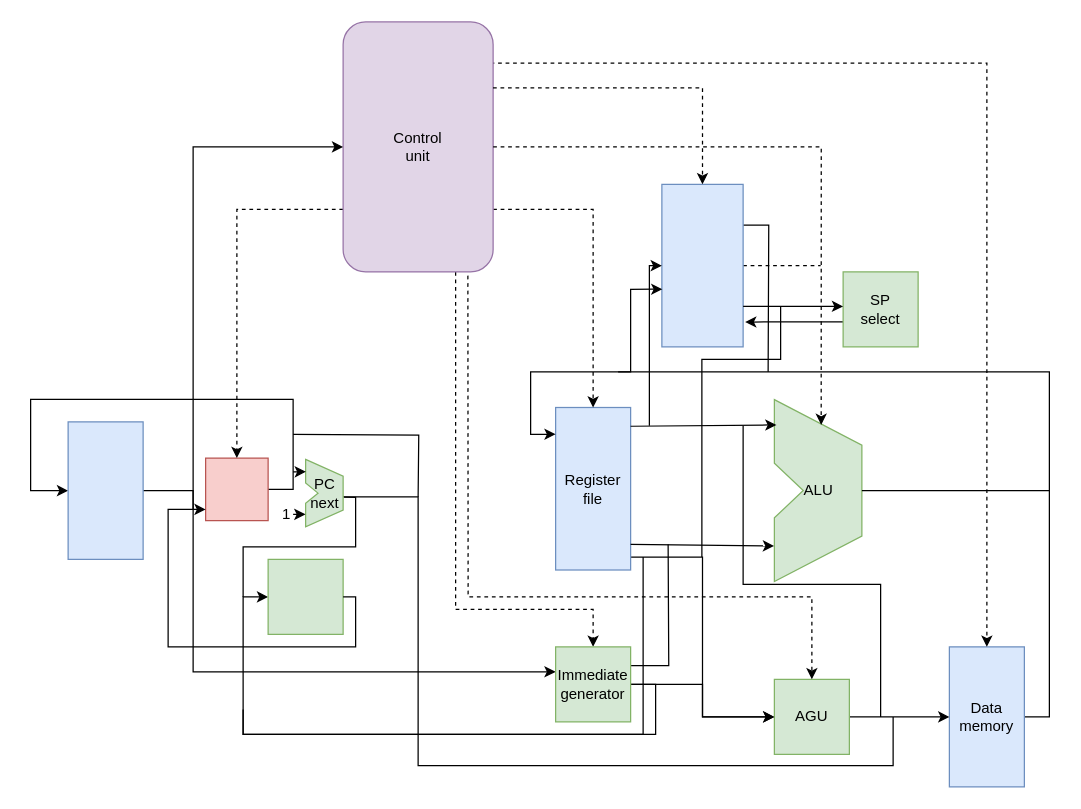
Some shapes in this 1081 by 809 pixel diagram are drawn without their labels. The shapes that lost their labels are listed below. From the top down, each one's box as (x1, y1, x2, y2) in pixels, then its label:
(661, 183, 743, 347): CSR file
(67, 421, 143, 559): Instruction m emory
(204, 457, 268, 521): PC
(267, 558, 343, 634): PC select
